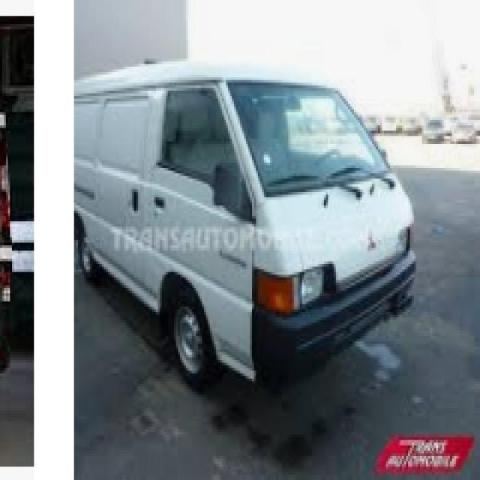van: (74, 53, 418, 387)
